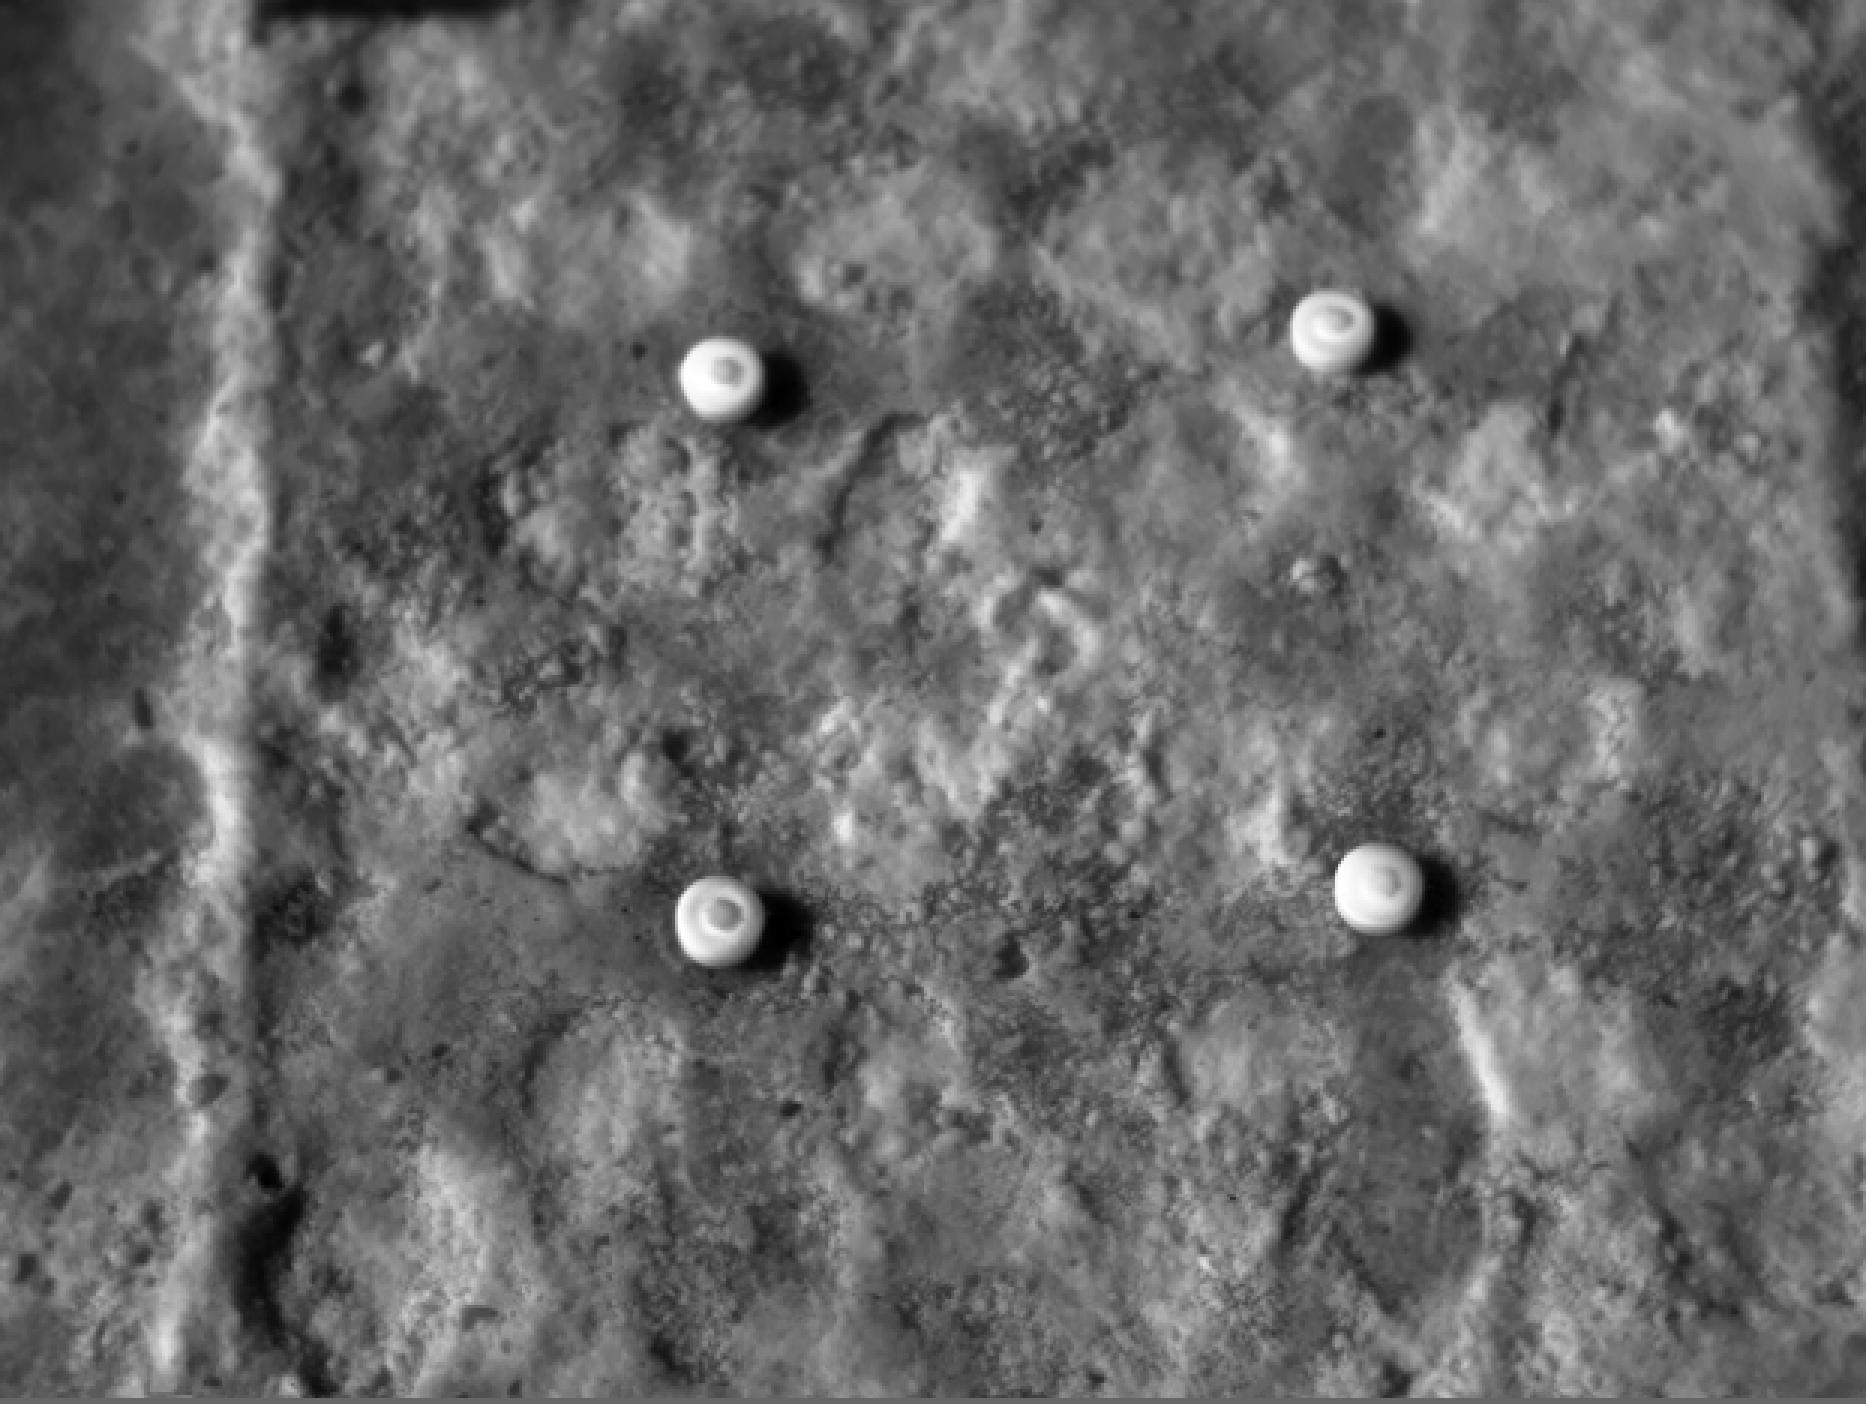mines-gjV8: (676, 872, 779, 970), (1335, 842, 1426, 938), (1288, 288, 1381, 376), (681, 332, 763, 420)
